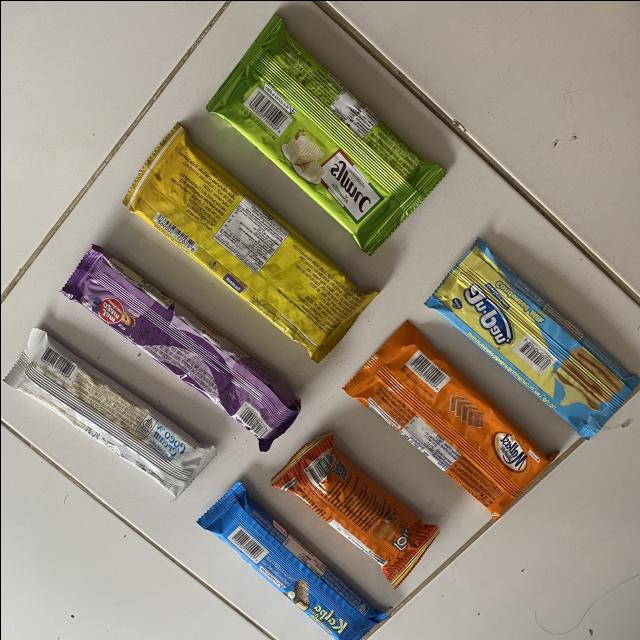plastik: (123, 123, 376, 362), (206, 14, 444, 254), (61, 244, 299, 450), (425, 238, 638, 438), (343, 321, 555, 517), (3, 327, 215, 497), (197, 482, 386, 640), (269, 432, 437, 586)
